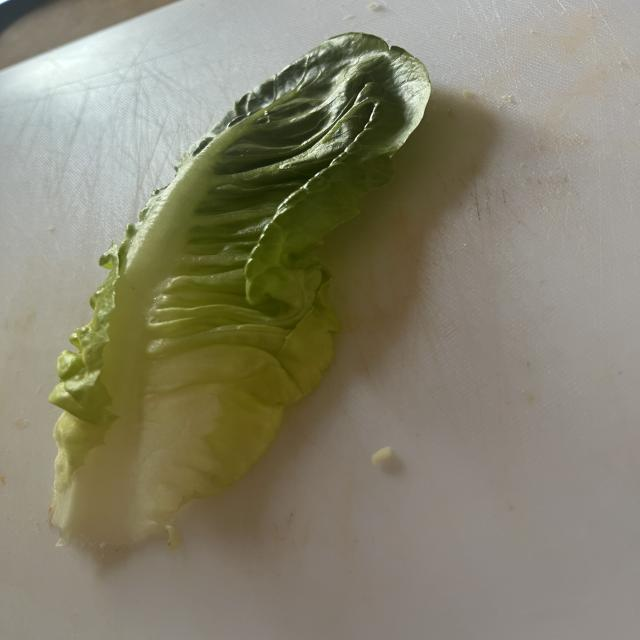lettuce: (50, 33, 430, 547)
